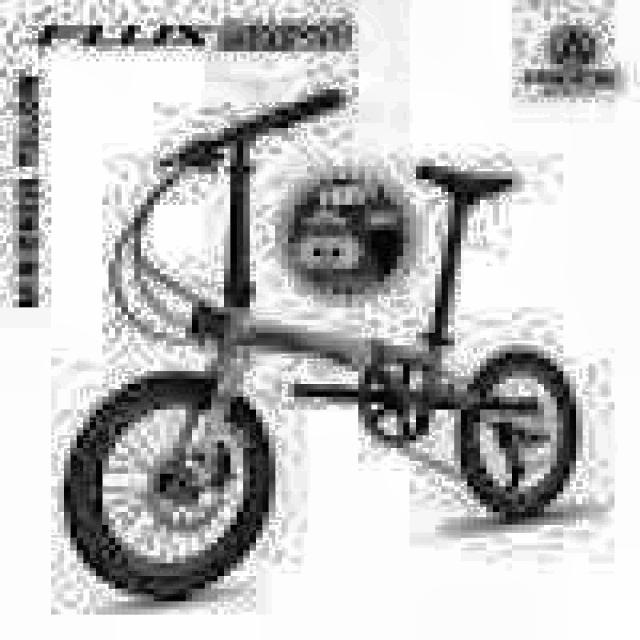motorcycle: (76, 82, 593, 618)
